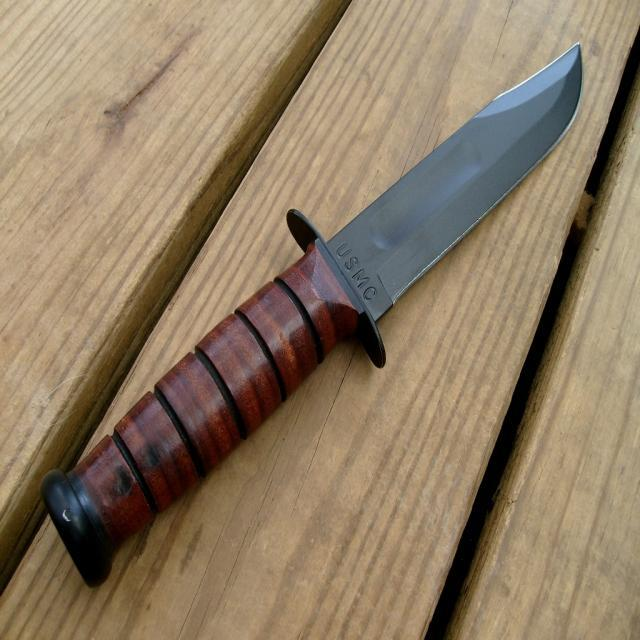Knife: (45, 45, 581, 584)
